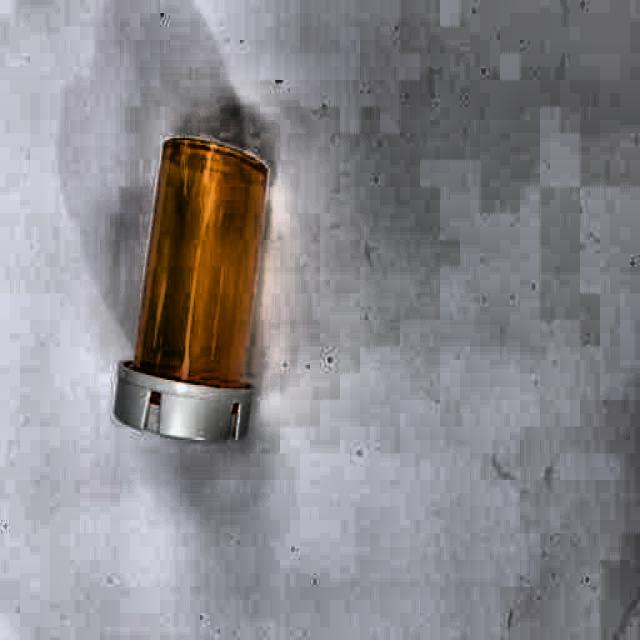plastic: (119, 140, 269, 443)
